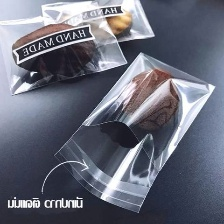snack: (50, 48, 218, 217), (0, 0, 132, 99), (35, 0, 159, 55)
